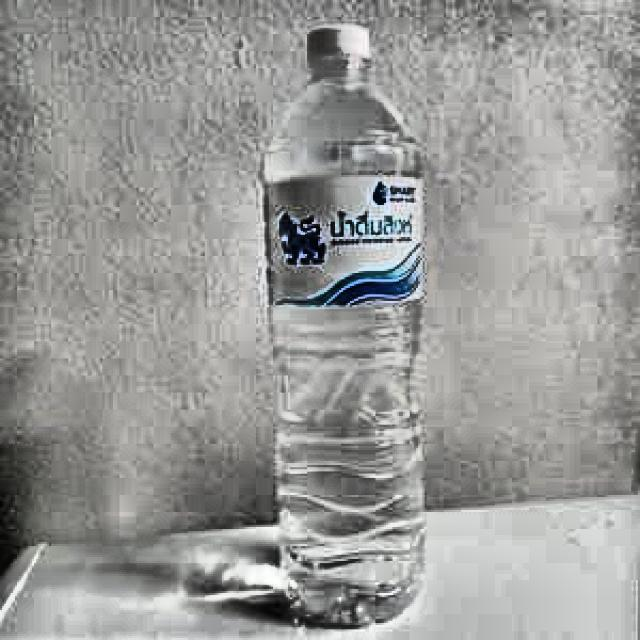Bottles: (248, 11, 449, 633)
